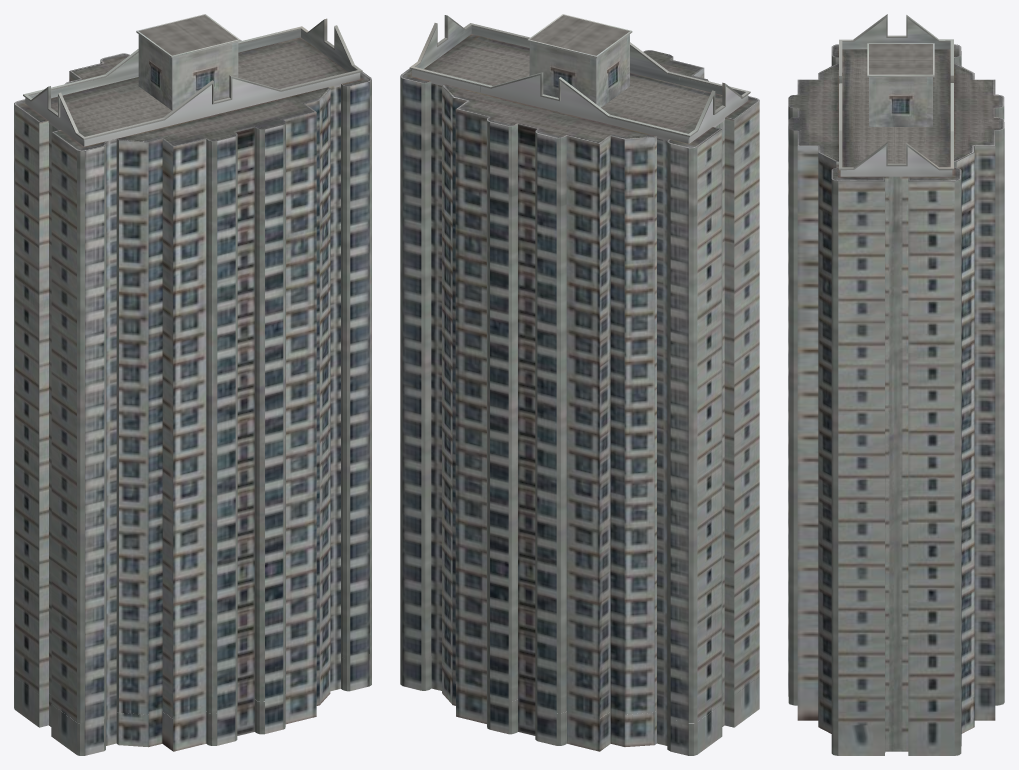
The model's file is build08.FBX.
3 views of the same model, side by side, from view 1: azimuth 30°, elevation 25°; view 2: azimuth 150°, elevation 25°; view 3: azimuth 270°, elevation 25° (orthographic). The views are drawn at different scales.
Parts seen in each view (by area): view 1: build08; view 2: build08; view 3: build08.
Boxes of the visible parts, <box> form: build08: <box>14,14,371,755</box>; build08: <box>400,14,759,755</box>; build08: <box>788,14,1004,755</box>.
Size of the model in its own units: 824 by 1759 by 550.
Materials: 1 (1 with a texture image).
